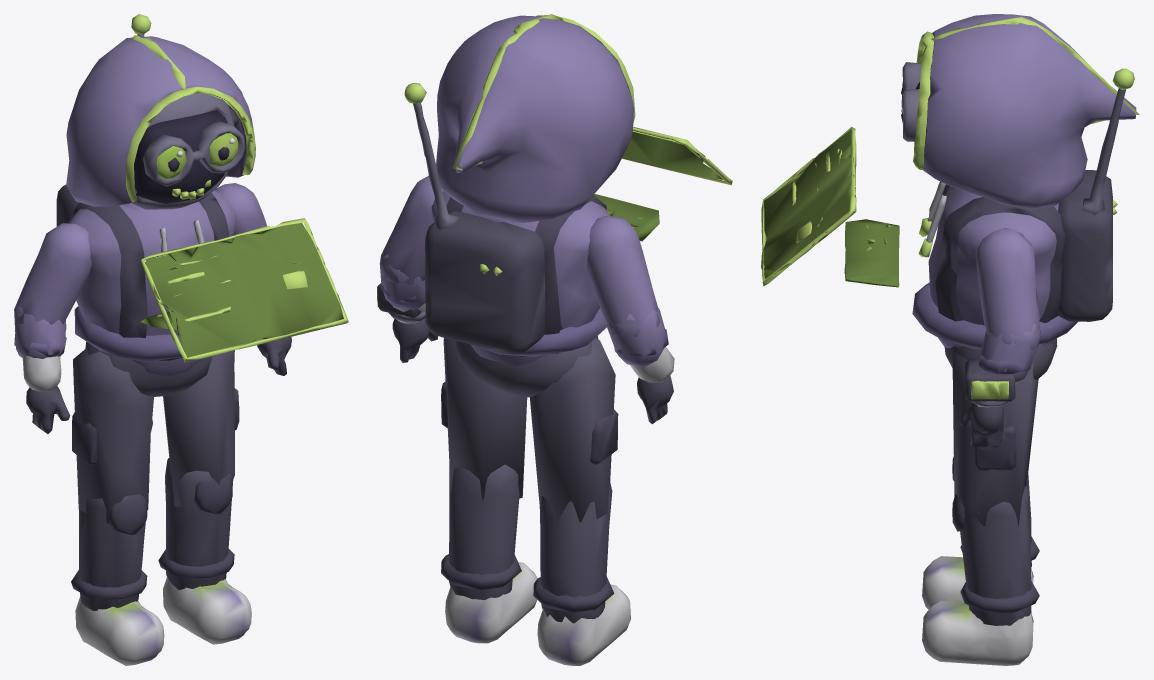
The model's file is hacker.glb.
3 views of the same model, side by side, from view 1: azimuth 30°, elevation 25°; view 2: azimuth 150°, elevation 25°; view 3: azimuth 270°, elevation 25° (orthographic). The views are drawn at different scales.
Visible parts, largest first — view 1: holo_glow, torso, hood, shin_l, shin_r, leg_r, head, leg_l, arm_r, fore_r, hood_glow, pelvis (+3 smaller); view 2: hood, torso, shin_l, shin_r, leg_r, leg_l, arm_r, holo_glow, fore_r, pelvis, arm_l, fore_l (+1 smaller); view 3: hood, torso, shin_l, holo_glow, leg_l, arm_l, fore_l, hood_glow, shin_r, head, pelvis, chest_glow (+1 smaller).
Part boxes in pixels (left/top/right/bottom): holo_glow: left=140, top=218, right=348, bottom=362; torso: left=56, top=34, right=236, bottom=376; hood: left=66, top=36, right=253, bottom=206; shin_l: left=158, top=458, right=251, bottom=644; shin_r: left=71, top=494, right=164, bottom=665; leg_r: left=72, top=347, right=153, bottom=523; head: left=131, top=93, right=245, bottom=209; leg_l: left=163, top=350, right=239, bottom=506; arm_r: left=14, top=223, right=91, bottom=324; fore_r: left=14, top=306, right=70, bottom=433; hood_glow: left=126, top=35, right=255, bottom=201; pelvis: left=85, top=341, right=212, bottom=396; hood: left=436, top=15, right=633, bottom=222; torso: left=413, top=102, right=610, bottom=367; shin_l: left=441, top=464, right=537, bottom=643; shin_r: left=533, top=481, right=630, bottom=665; leg_r: left=529, top=337, right=618, bottom=523; leg_l: left=441, top=338, right=527, bottom=500; arm_r: left=586, top=216, right=660, bottom=336; holo_glow: left=594, top=127, right=732, bottom=241; fore_r: left=606, top=307, right=674, bottom=424; pelvis: left=455, top=336, right=598, bottom=397; arm_l: left=380, top=176, right=443, bottom=284; fore_l: left=377, top=252, right=438, bottom=362; hood: left=923, top=14, right=1136, bottom=209; torso: left=912, top=88, right=1125, bottom=348; shin_l: left=922, top=486, right=1039, bottom=665; holo_glow: left=761, top=127, right=899, bottom=287; leg_l: left=952, top=352, right=1038, bottom=526; arm_l: left=975, top=228, right=1040, bottom=349; fore_l: left=958, top=324, right=1040, bottom=448; hood_glow: left=913, top=17, right=1139, bottom=169; shin_r: left=922, top=456, right=1039, bottom=609; head: left=901, top=62, right=921, bottom=141; pelvis: left=944, top=338, right=1057, bottom=379; chest_glow: left=918, top=68, right=1134, bottom=257.
Bounding box in the file's own units: 0.5212 × 1.09 × 0.6019.
